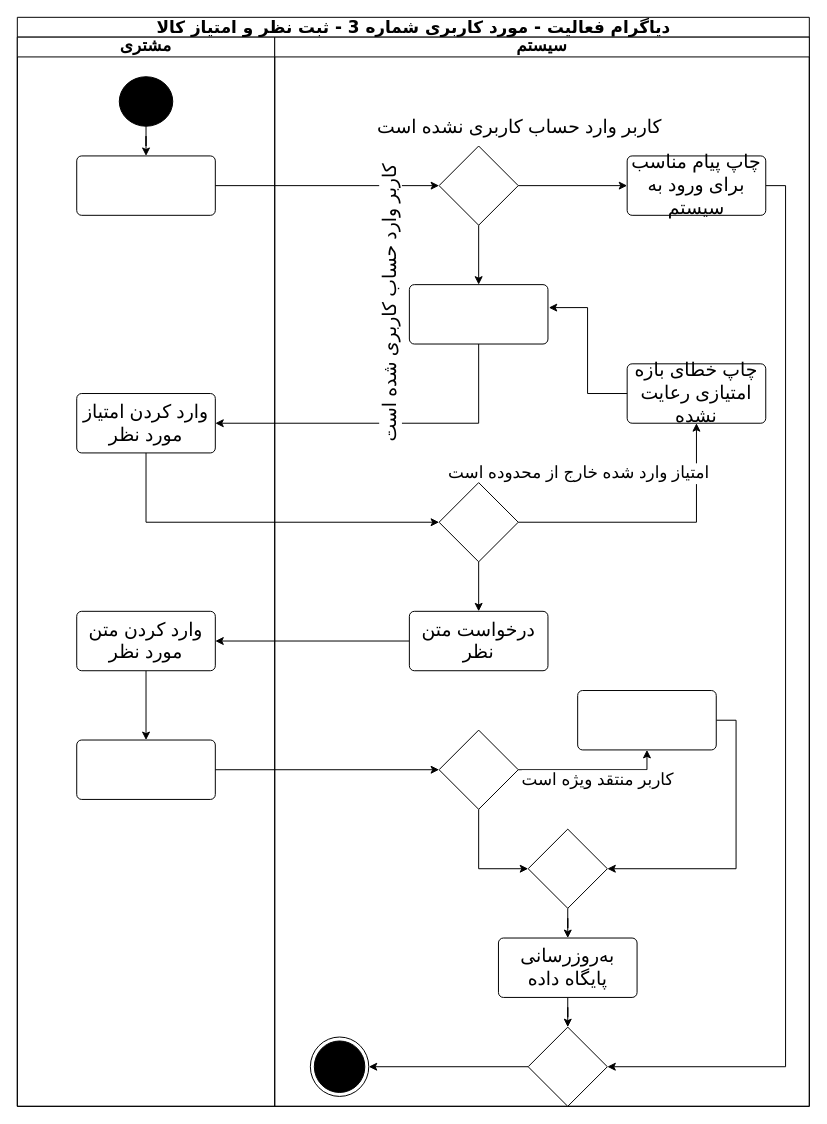
Image size: 827x1124. Some labels were removed from this diagram. Each missing label, with the centre of its shape:
درخواست امتیاز از کاربر: point 478,314
درخواست ثبت امتیاز و نظر بر روی کالا: point 145,185
قرار دادن نماد ویژه برای منتقدان: point 646,720
کلیک بر روی ثبت نهایی: point 145,769
